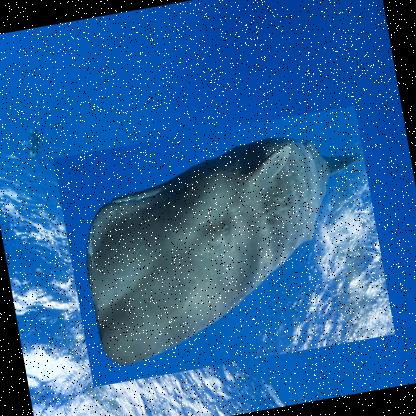sperm_whale: (52, 104, 395, 387)
